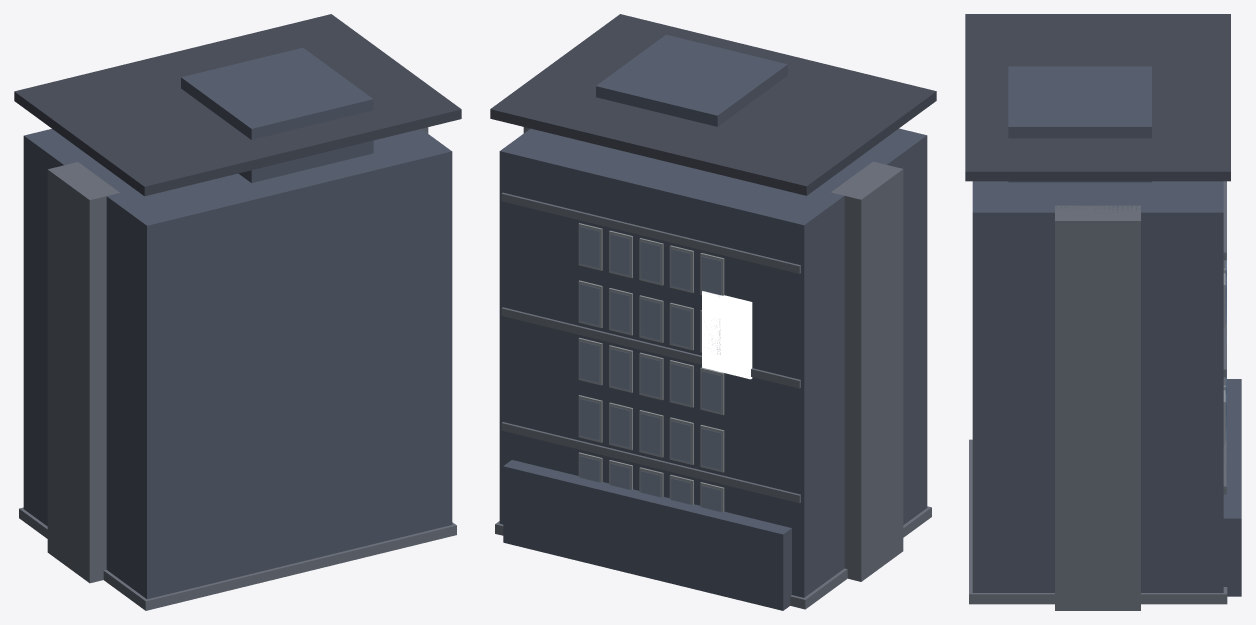
The model's file is apartment.glb.
3 renders of one model, left to right at view 1: azimuth 30°, elevation 25°; view 2: azimuth 150°, elevation 25°; view 3: azimuth 270°, elevation 25°, orthographic. The views are drawn at different scales.
Parts seen in each view (by area): view 1: Body_Wall, Roof_Slab, Band_3.4; view 2: Body_Wall, Roof_Slab, Band_3.4, Win_0_0_Frame, Win_0_0_Glass, Arcade_Light_0; view 3: Body_Wall, Band_3.4, Roof_Slab, Win_0_0_Glass, Win_0_0_Frame.
Part boxes in pixels (x1,y1,x2,y2): Body_Wall: (23,47,452,599); Roof_Slab: (14,14,461,196); Band_3.4: (19,127,456,610); Body_Wall: (499,34,927,610); Roof_Slab: (490,14,936,195); Band_3.4: (495,127,931,609); Win_0_0_Frame: (578,223,724,512); Win_0_0_Glass: (579,227,721,511); Arcade_Light_0: (702,291,752,379); Body_Wall: (972,66,1241,596); Band_3.4: (969,181,1227,610); Roof_Slab: (965,14,1230,181); Win_0_0_Glass: (1225,181,1226,473); Win_0_0_Frame: (1223,260,1225,444).
Bounding box in the file's own units: 11.1 × 13.7 × 7.7.
